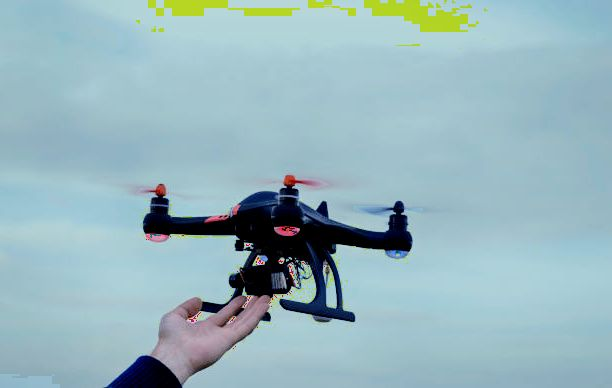Drone: (114, 167, 435, 284)
